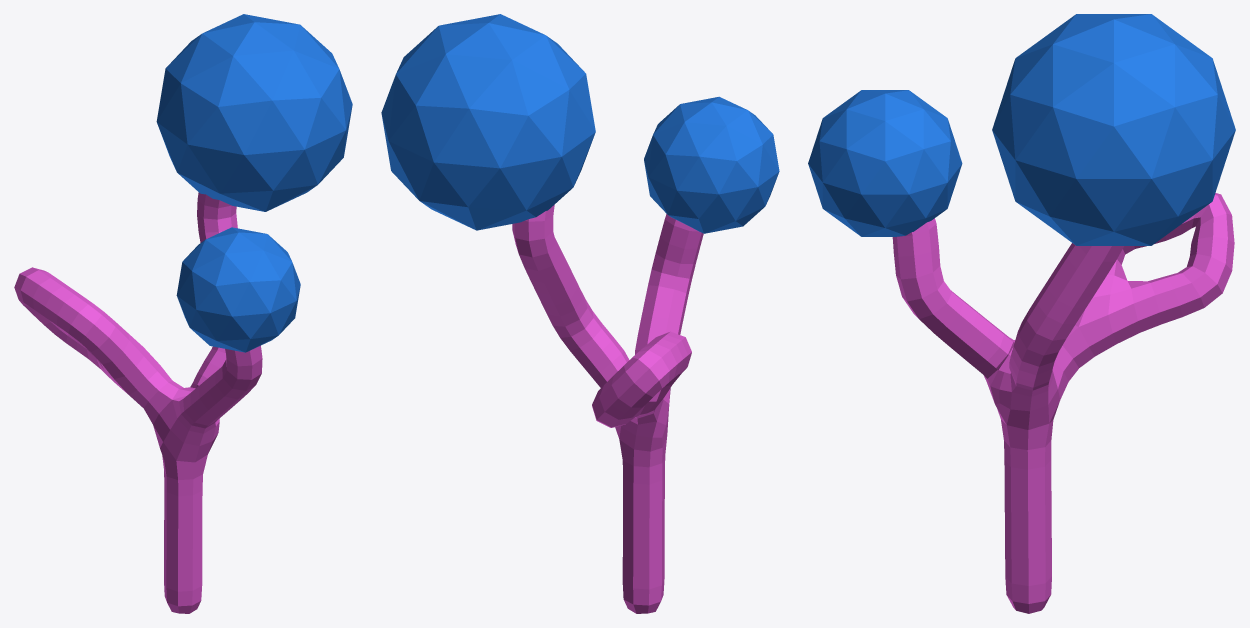
File: tree666.gltf
3 renders of one model, left to right at view 1: azimuth 30°, elevation 25°; view 2: azimuth 150°, elevation 25°; view 3: azimuth 270°, elevation 25°, orthographic. The views are drawn at different scales.
Parts seen in each view (by area): view 1: tree.001; view 2: tree.001; view 3: tree.001.
Boxes of the visible parts, box(x1,y1,x2,y2) form: tree.001: box(14, 14, 352, 613); tree.001: box(381, 14, 779, 613); tree.001: box(808, 14, 1235, 613).
Size of the model in its own units: 0.2493 by 0.4547 by 0.2689.
